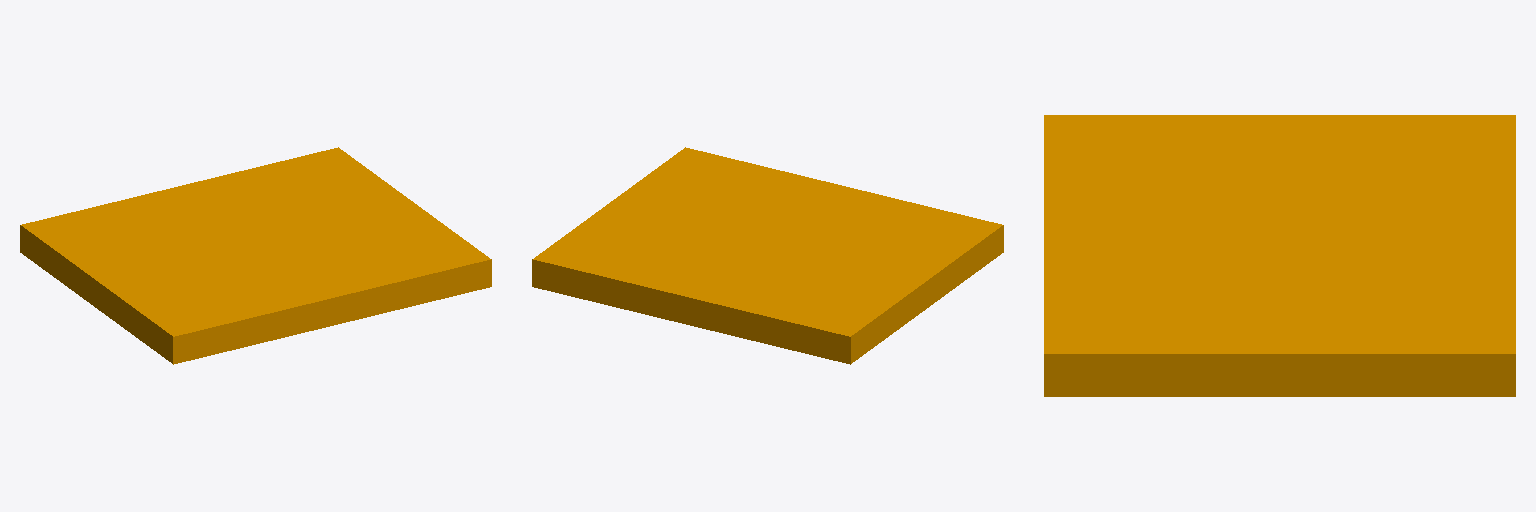
The robot description file, URDF, robot "table":
<robot name="table">
  <link name="table">
    <inertial>
      <origin xyz="0.6 0.5 0.05" />
      <mass value="0.7" />
      <!-- (1/12)*mass*(h^2 + d^2)  (1/12)*mass*(w^2 + d^2) (1/12)*mass*(w^2 + h^2) -->
      <!-- (1/12)*0.5*(0.045^2 + 0.045^2)  (1/12)*0.5*(0.045^2 + 0.045^2) (1/12)*0.5*(0.045^2 + 0.045^2) -->
      <!--inertia  ixx="0.00016874999" ixy="0.0"  ixz="0.0"  iyy="0.00016874999"  iyz="0.0"  izz="0.00016874999" /-->
      <inertia  ixx="0.001" ixy="0.0"  ixz="0.0"  iyy="0.001"  iyz="0.0"  izz="0.001" />

    </inertial>
    <visual>
      <origin xyz="0.6 0.5 0.05"/>
      <geometry>
        <box size="1.2 1 0.1" />
      </geometry>
    </visual>
    <collision>
      <origin xyz="0.6 0.5 0.05"/>
      <geometry>
        <box size="1.2 1 0.1" />
      </geometry>
    </collision>
  </link>
  <gazebo>
    <material>Gazebo/Grey</material>
    <static>true</static>
  </gazebo>
</robot>

--- What the picture shows (computed from the rendered views, not written in the file) ---
The picture shows the robot from 3 angles, left to right: view 1: azimuth 30°, elevation 25°; view 2: azimuth 150°, elevation 25°; view 3: azimuth 270°, elevation 25°; orthographic projection.
Model table with 1 links and 0 joints (none), rooted at table, posed all joints at 0.
Visible links, largest first — view 1: table; view 2: table; view 3: table.
Boxes of the visible links, x1,y1,x2,y2 form: table: (20, 147, 491, 364); table: (532, 147, 1003, 364); table: (1044, 115, 1515, 396).
Size in the robot's own frame: 1.2 by 1 by 0.1 metres.
Geometry: primitives only (box / cylinder / sphere), no mesh files.